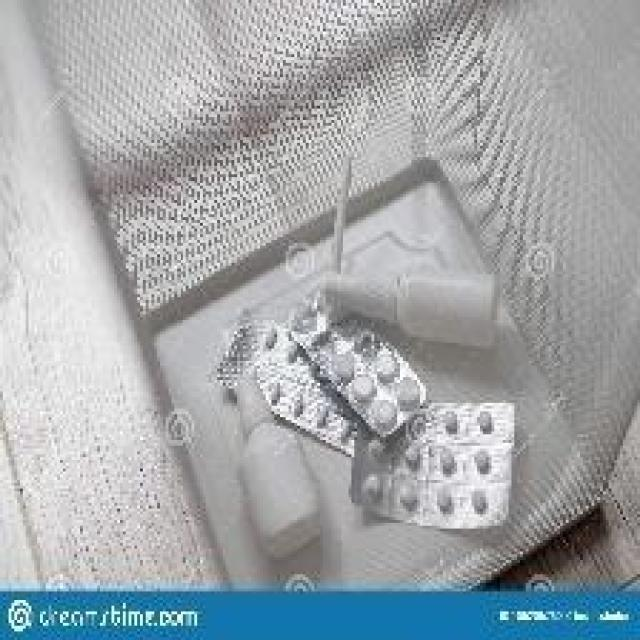Medicine: (221, 232, 541, 557)
